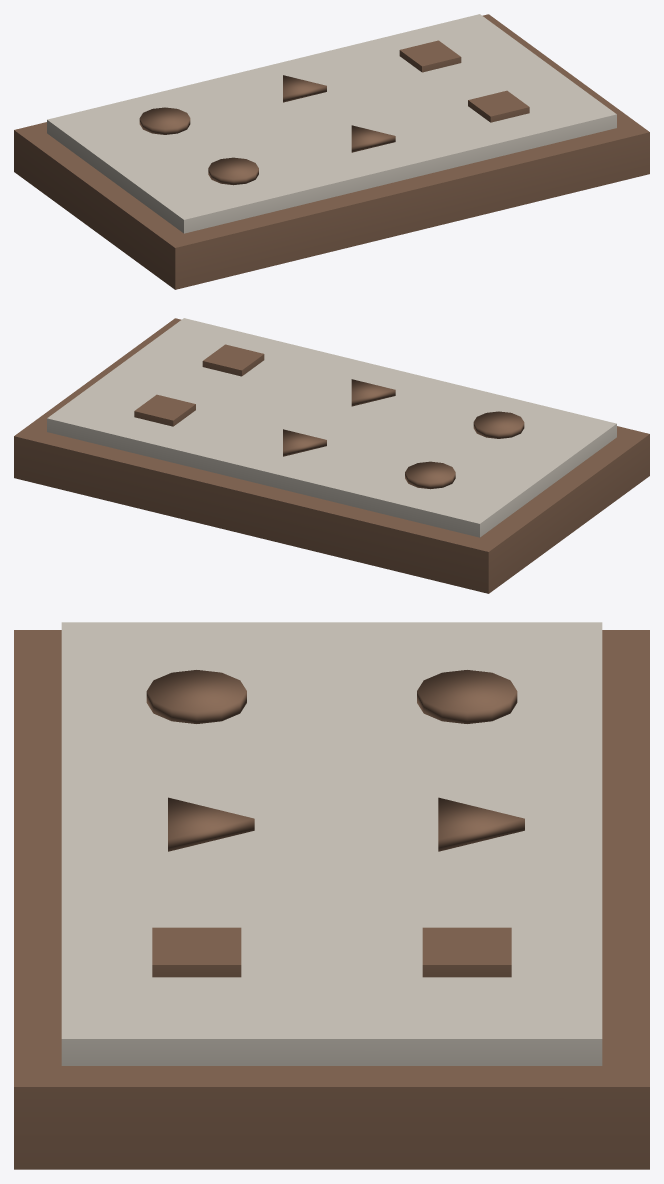
File: prop-lumi-decoration-board.glb
3 views of the same model, one above another, from view 1: azimuth 30°, elevation 25°; view 2: azimuth 150°, elevation 25°; view 3: azimuth 270°, elevation 25° (orthographic). The views are drawn at different scales.
Parts seen in each view (by area): view 1: prop-lumi-decoration-board; view 2: prop-lumi-decoration-board; view 3: prop-lumi-decoration-board.
Boxes of the visible parts, bbox=[...] form: prop-lumi-decoration-board: bbox=[14, 14, 649, 289]; prop-lumi-decoration-board: bbox=[14, 318, 649, 593]; prop-lumi-decoration-board: bbox=[14, 622, 649, 1169].
Size of the model in its own units: 0.68 by 0.085 by 0.4.
